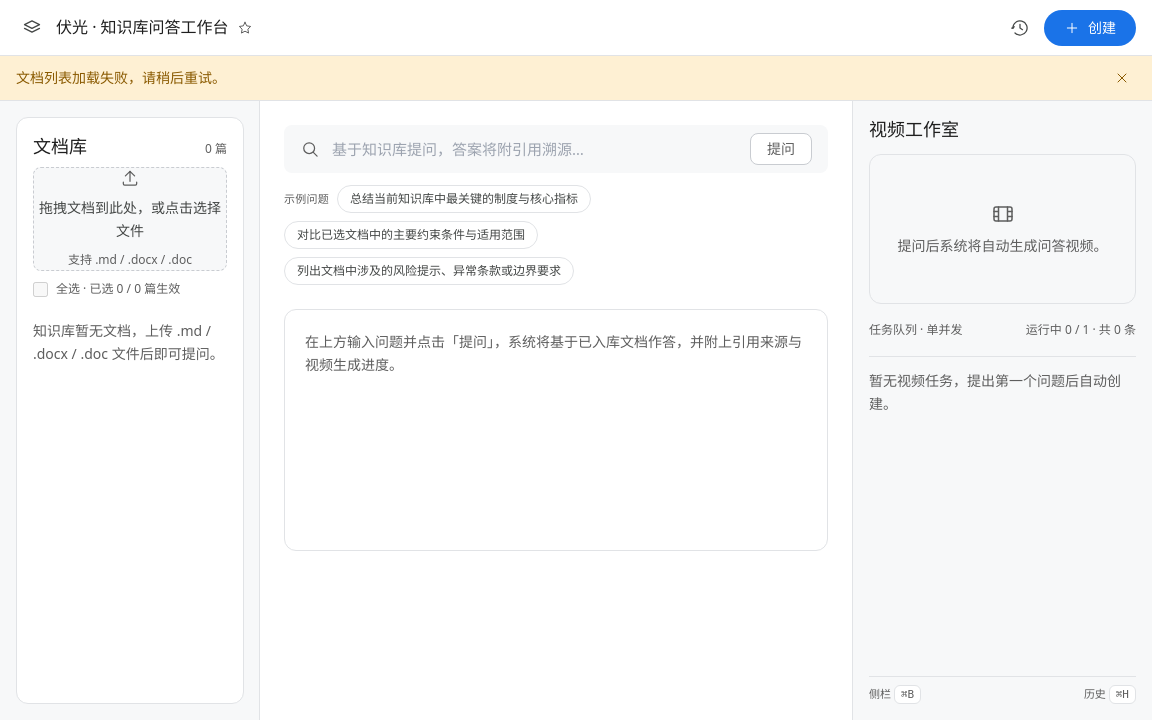
Test: App 三栏工作台 › 后端错误时顶栏下展示可关闭的错误横幅
Expected: the text "文档列表加载失败，请稍后重试。" is shown, [16,66,226,90]
Click the button named "关闭错误提示".
click(1122, 78)  # box [1108,64,1136,92]
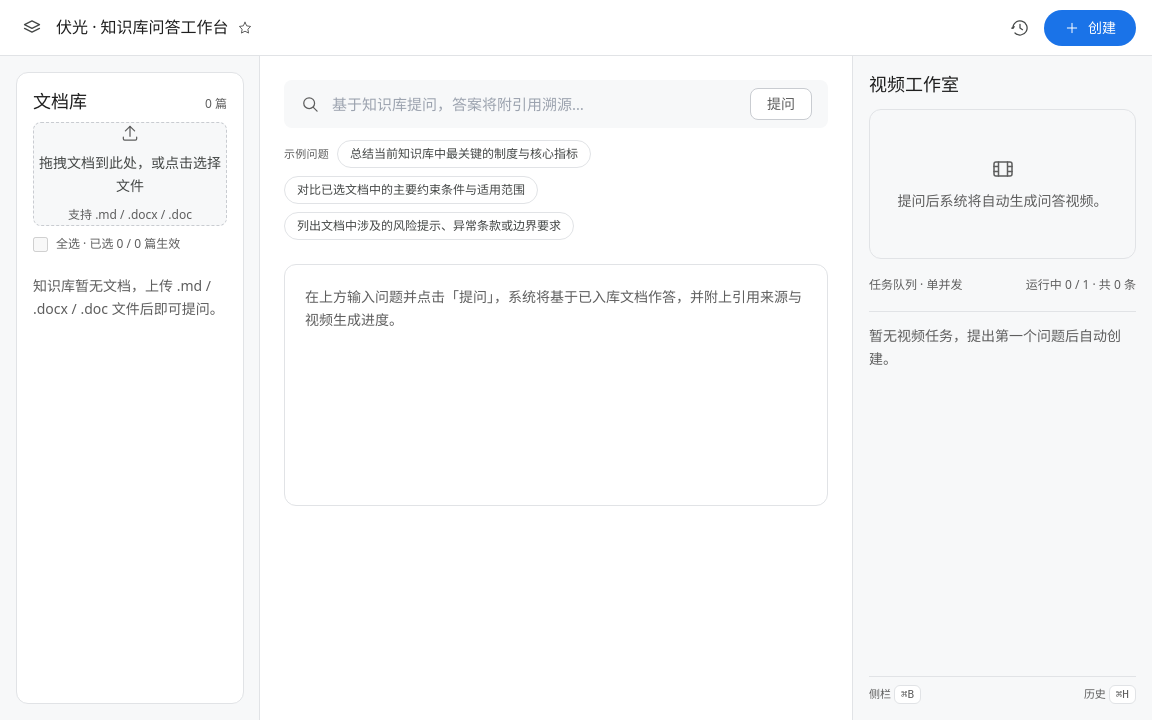
Expected: the text "文档列表加载失败" is gone
